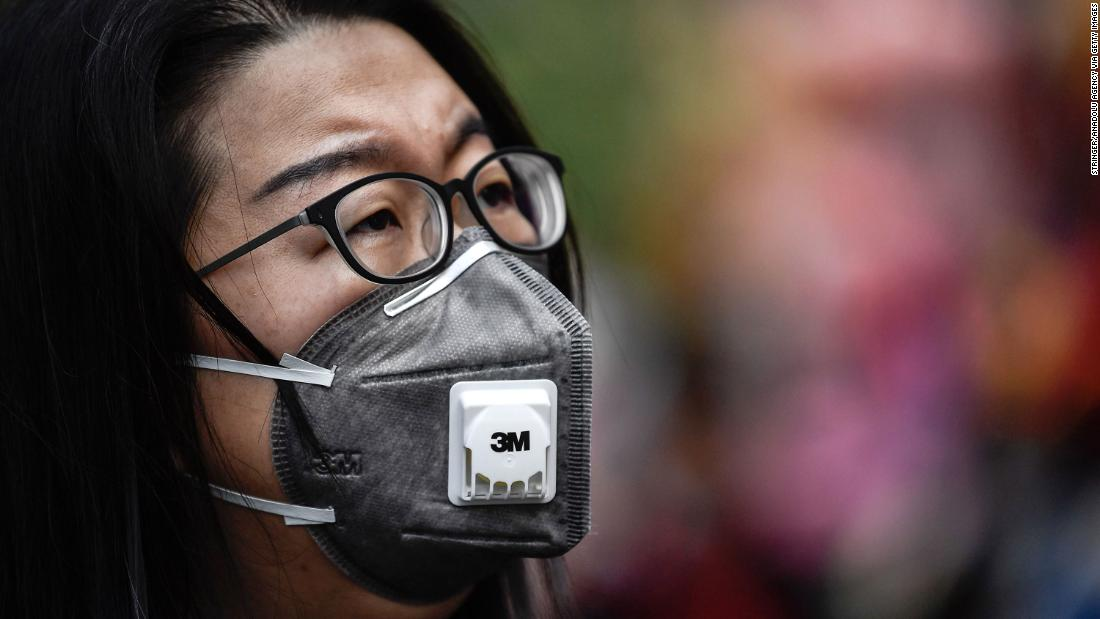n95: (267, 224, 625, 599)
